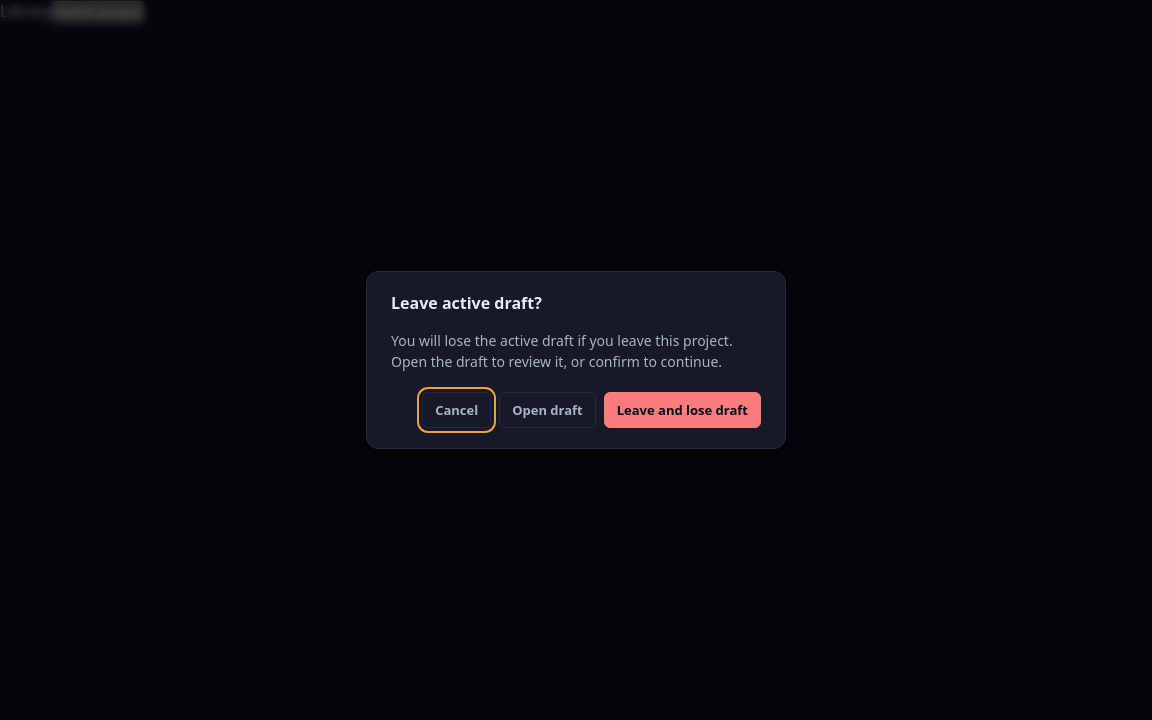
Test: retains the attempted history destination until confirmed
What coordinates should you click on to do the following:
click the button "Leave and lose draft"
I would click on:
 (682, 410)
Its box is [604,392,761,428].
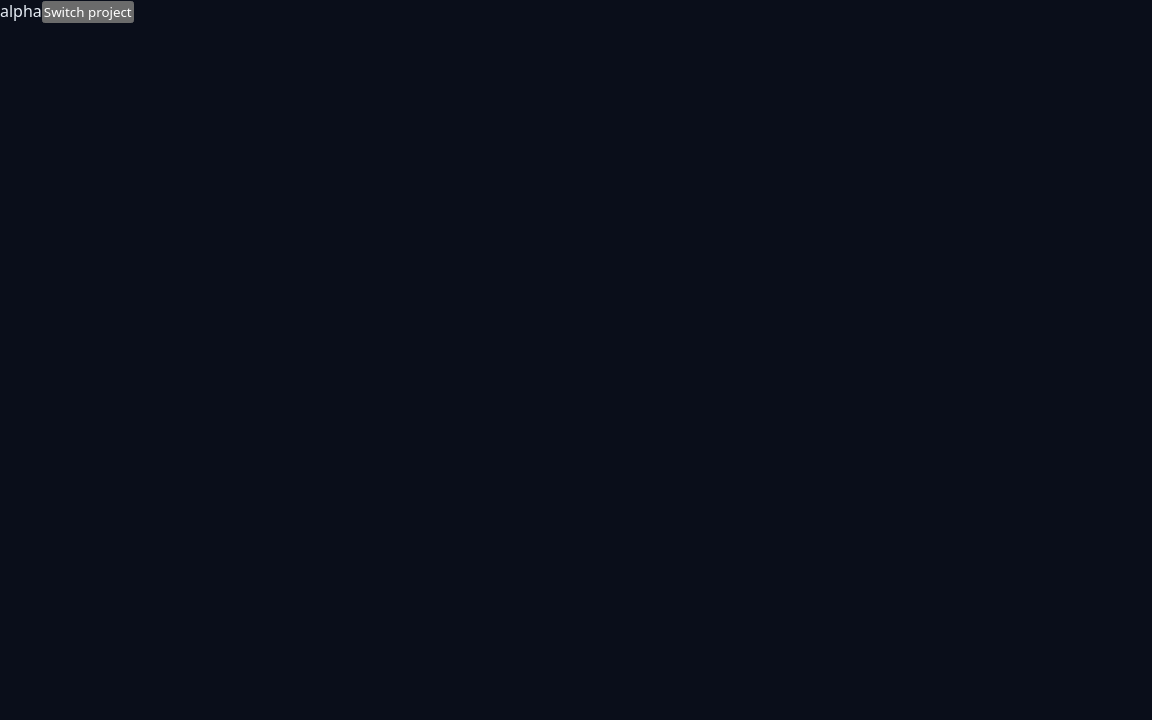
Now the text "alpha" is shown, box [0,0,42,22]
